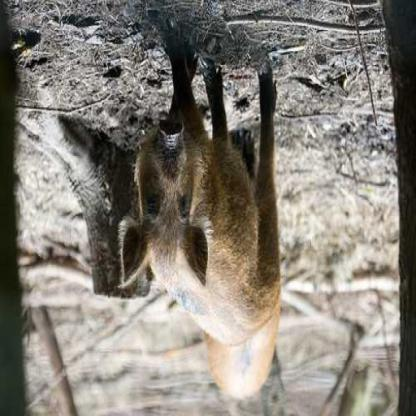boar: (132, 40, 301, 406)
